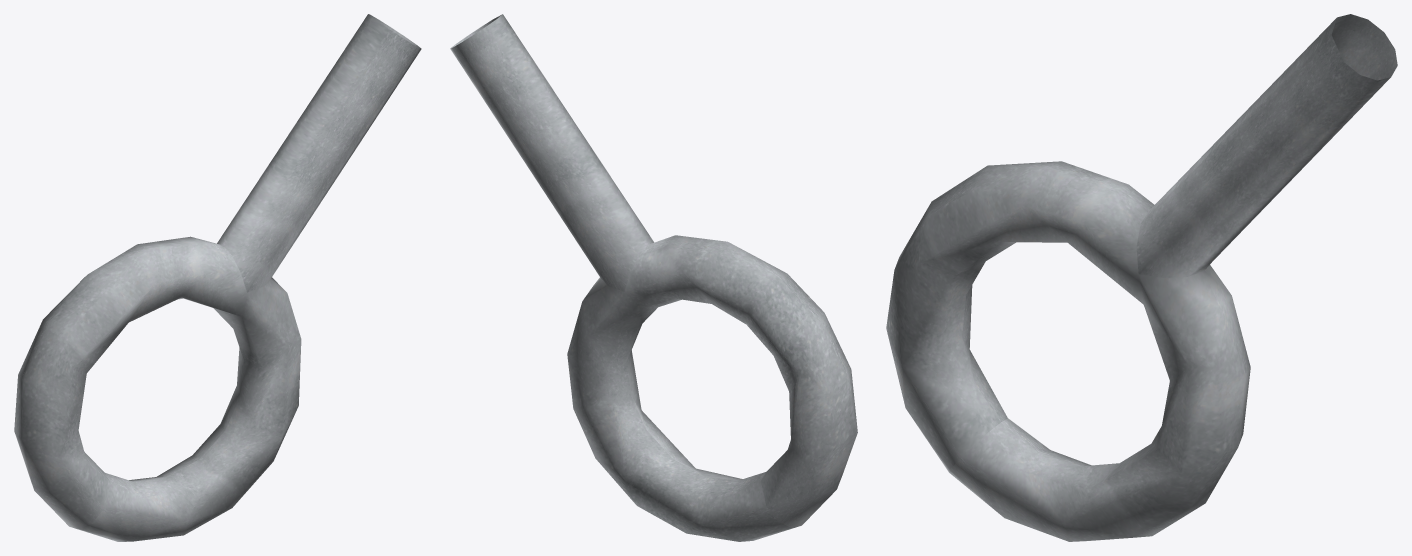
Rendered from SM_ENV_KNFRST_RopePegR.FBX.
The picture shows the model from 3 angles, left to right: view 1: azimuth 30°, elevation 25°; view 2: azimuth 150°, elevation 25°; view 3: azimuth 330°, elevation 25°; orthographic projection. The views are drawn at different scales.
Parts seen in each view (by area): view 1: SM_ENV_KNFRST_RopePegR; view 2: SM_ENV_KNFRST_RopePegR; view 3: SM_ENV_KNFRST_RopePegR.
Part boxes in pixels (box(x1,y1,x2,y2)): SM_ENV_KNFRST_RopePegR: box(14, 14, 421, 541); SM_ENV_KNFRST_RopePegR: box(450, 14, 857, 541); SM_ENV_KNFRST_RopePegR: box(886, 14, 1397, 541).
Bounding box in the file's own units: 149 × 167 × 21.42.
